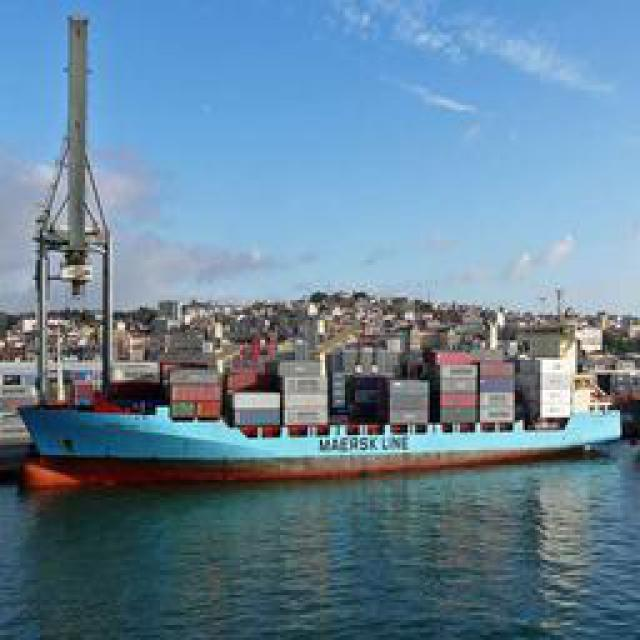Ship: (8, 346, 633, 491)
